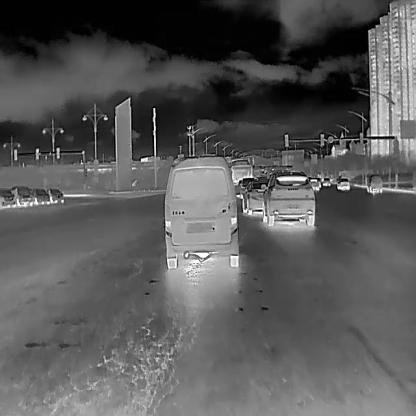car: (164, 155, 240, 269), (261, 171, 316, 225), (242, 177, 269, 215), (228, 162, 252, 193), (11, 184, 34, 206), (234, 178, 254, 197), (366, 173, 382, 193), (0, 187, 16, 206), (47, 186, 64, 203), (31, 188, 50, 203), (335, 176, 349, 190), (308, 177, 319, 190), (322, 176, 330, 186)
